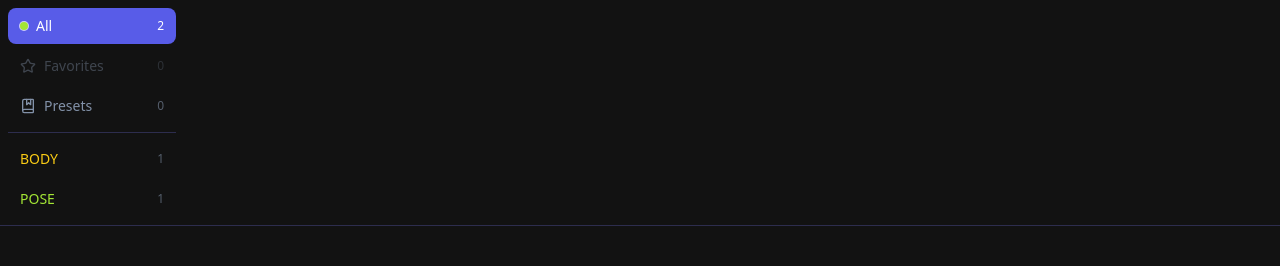
Scenario: sidebar footer: batch status › a running batch outranks the hint; the line is no longer aria-hidden
Later steps or results of the test are not shown.
Hover over the button "POSE 1": (92, 199) [8,181,176,217]
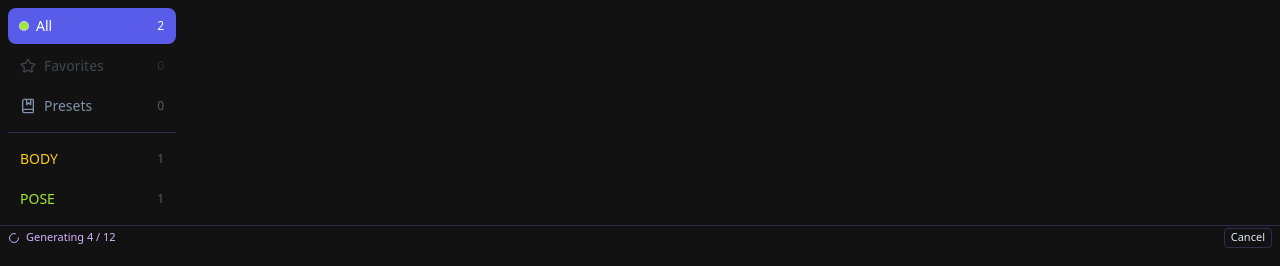
Expected: the text "right-click" is not shown
Now the text "Generating 4 / 12" is shown, box [26,229,116,246]
Now the icon with class "lucide-loader-circle" is shown, box [8,232,20,244]
